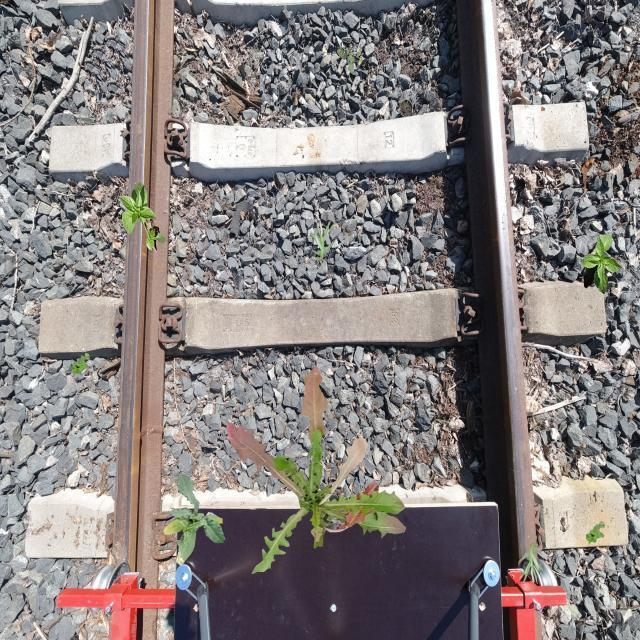Plant: (227, 365, 407, 574), (163, 473, 226, 566), (118, 182, 166, 253), (582, 234, 624, 294), (310, 219, 337, 261), (518, 543, 544, 585), (337, 42, 364, 72), (586, 521, 606, 546), (71, 352, 90, 376)
